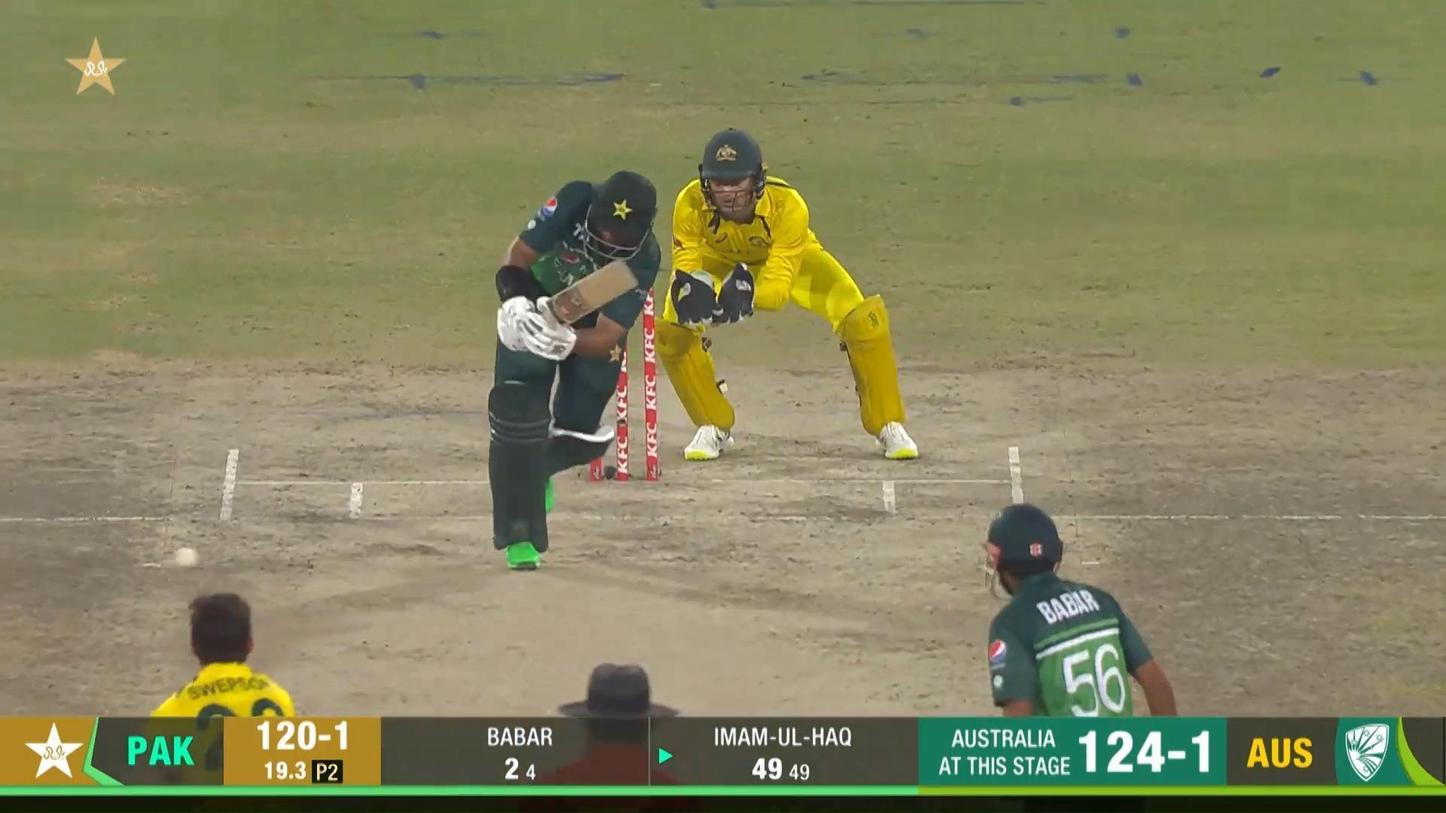BM 1: (488, 169, 662, 571)
BO: (147, 587, 299, 717)
